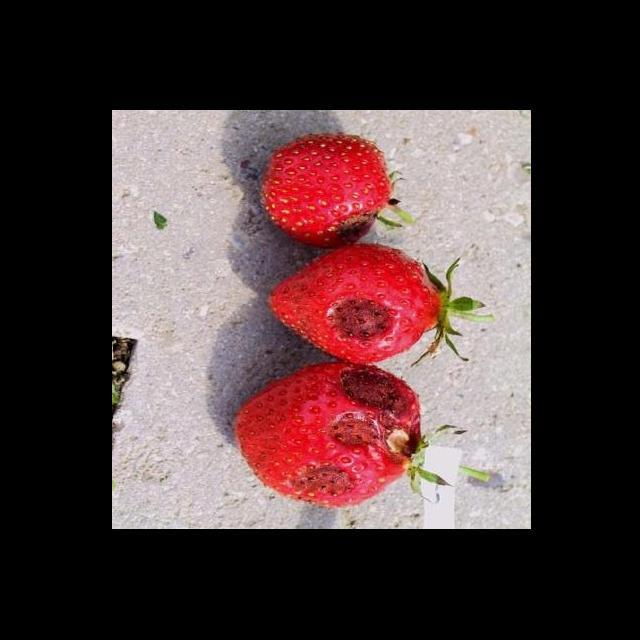Anthracnose Fruit Rot: (287, 366, 415, 506), (332, 295, 389, 346), (333, 206, 378, 242)
